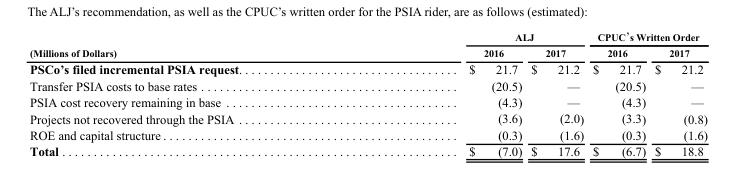table: (28, 29, 706, 158)
table column: (28, 29, 354, 158), (354, 29, 525, 158), (525, 29, 587, 158), (587, 29, 649, 158), (649, 29, 706, 158)
table column header: (28, 29, 706, 60)
table row: (28, 60, 706, 77), (28, 93, 706, 110), (28, 29, 706, 45), (28, 77, 706, 93), (28, 110, 706, 126), (28, 126, 706, 142), (28, 142, 706, 158), (28, 45, 706, 60)
table spanning cell: (28, 29, 354, 60), (354, 29, 587, 45), (587, 29, 706, 45)
